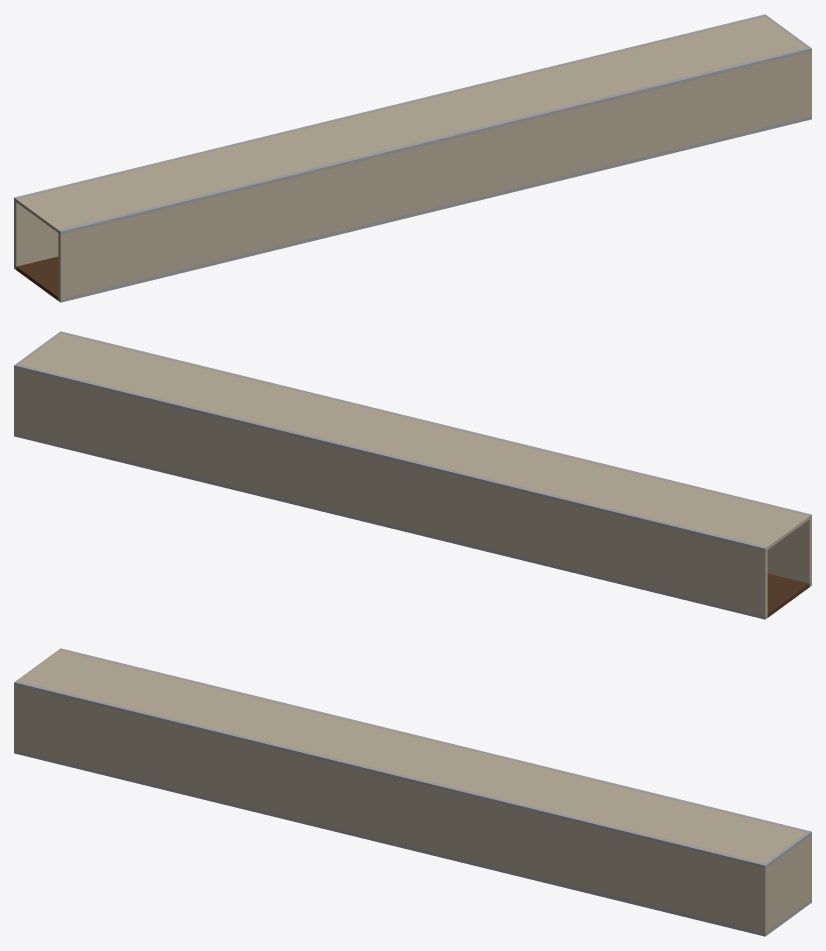
Rendered from hallway 1.fbx.
3 renders of one model, top to bottom at view 1: azimuth 30°, elevation 25°; view 2: azimuth 150°, elevation 25°; view 3: azimuth 330°, elevation 25°, orthographic.
Visible parts, largest first — view 1: Hallway; view 2: Hallway; view 3: Hallway.
Boxes of the visible parts, bbox=[...] form: Hallway: bbox=[14, 14, 811, 302]; Hallway: bbox=[14, 331, 811, 619]; Hallway: bbox=[14, 648, 811, 936].
Bounding box in the file's own units: 22.18 × 2 × 2.38.
